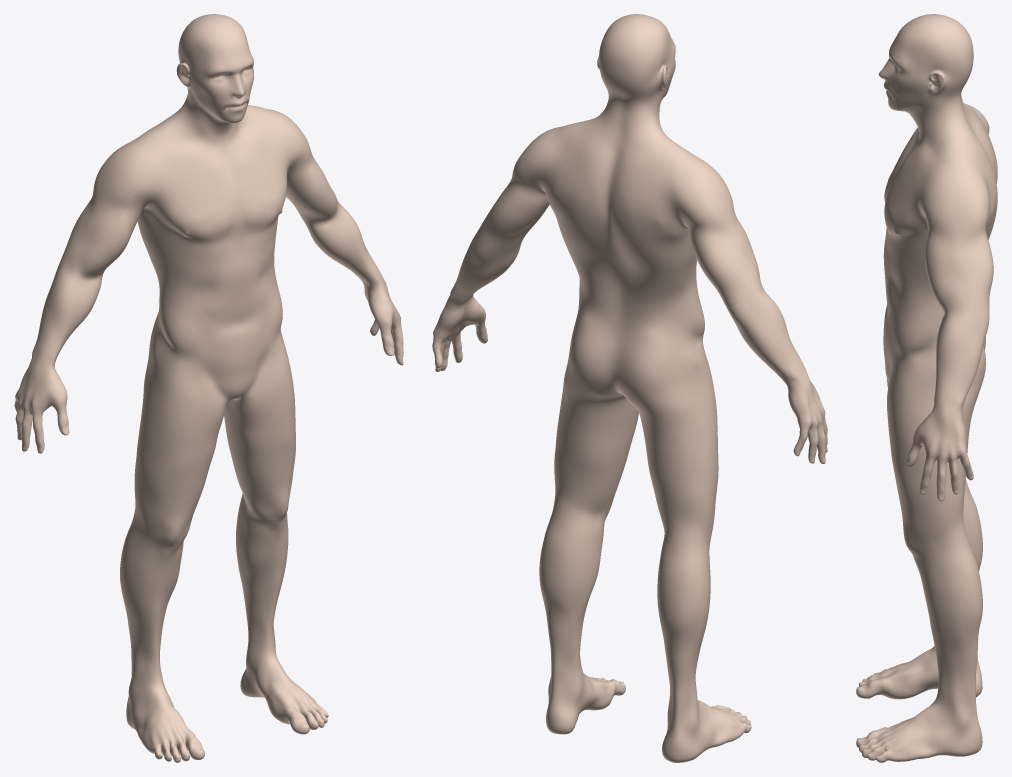
Rendered from human.glb.
The picture shows the model from 3 angles, left to right: view 1: azimuth 30°, elevation 25°; view 2: azimuth 150°, elevation 25°; view 3: azimuth 270°, elevation 25°; orthographic projection.
Visible parts, largest first — view 1: human; view 2: human; view 3: human.
Boxes of the visible parts, x1,y1,x2,y2 form: human: (14,14,403,762); human: (432,14,827,762); human: (856,14,997,762).
Bounding box in the file's own units: 1.01 × 1.8 × 0.3272.
